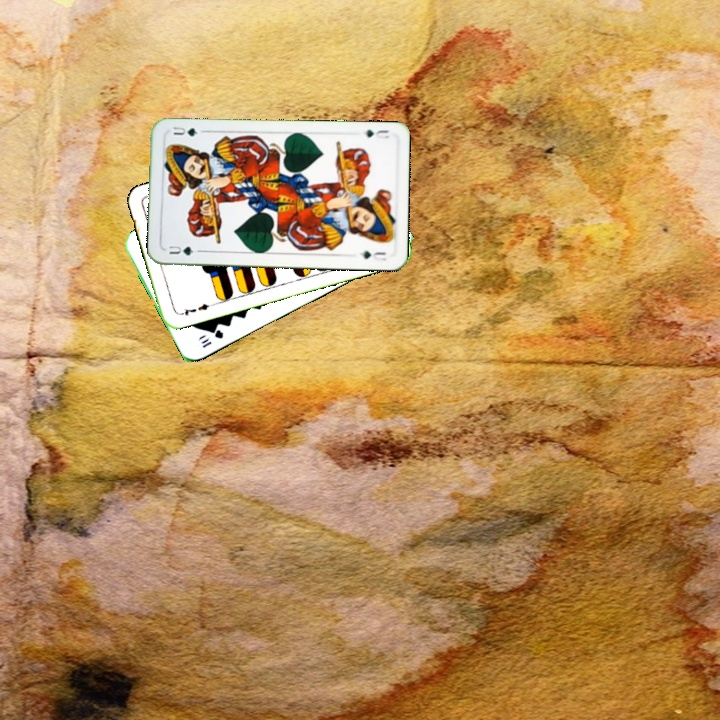E7: (175, 299, 215, 319)
G10: (196, 325, 226, 351)
GU: (165, 242, 203, 258), (361, 125, 392, 141)
